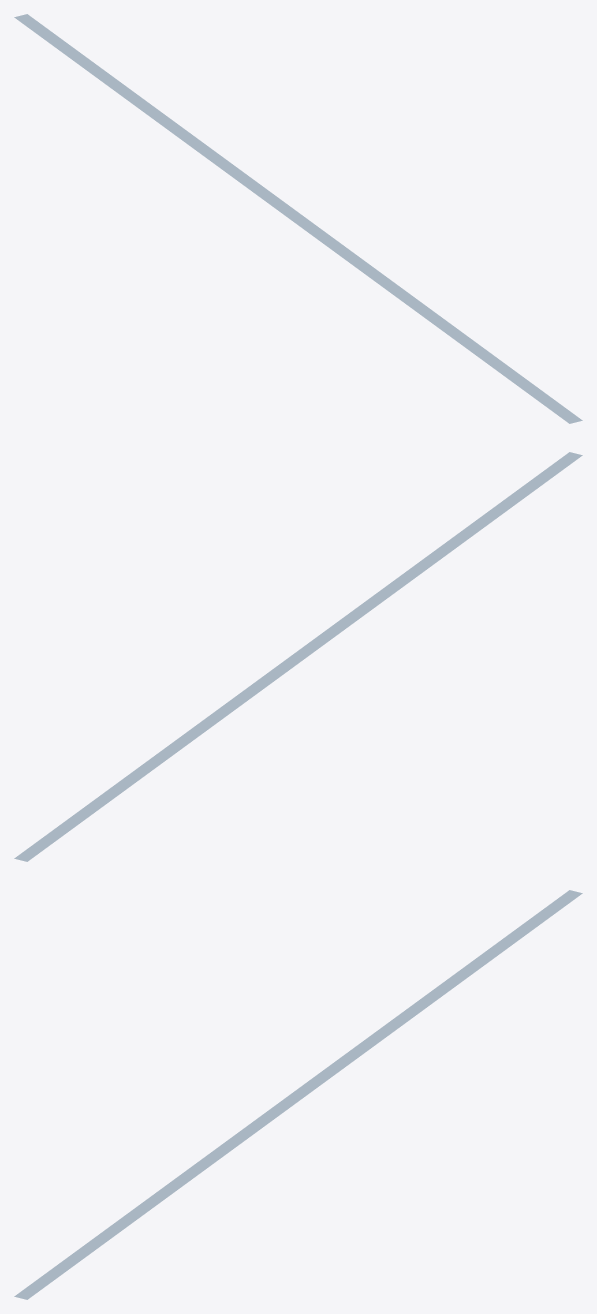
Rendered from SM_MPRSC_MPRSC_Walkway.fbx.
3 views of the same model, one above another, from view 1: azimuth 30°, elevation 25°; view 2: azimuth 150°, elevation 25°; view 3: azimuth 330°, elevation 25° (orthographic).
Parts seen in each view (by area): view 1: SM_MPRSC_MPRSC_Walkway; view 2: SM_MPRSC_MPRSC_Walkway; view 3: SM_MPRSC_MPRSC_Walkway.
Part boxes in pixels (x1=…): SM_MPRSC_MPRSC_Walkway: x1=14, y1=14, x2=582, y2=423; SM_MPRSC_MPRSC_Walkway: x1=14, y1=452, x2=582, y2=861; SM_MPRSC_MPRSC_Walkway: x1=14, y1=890, x2=582, y2=1299.
Size of the model in its own units: 235 by 16878 by 0.
